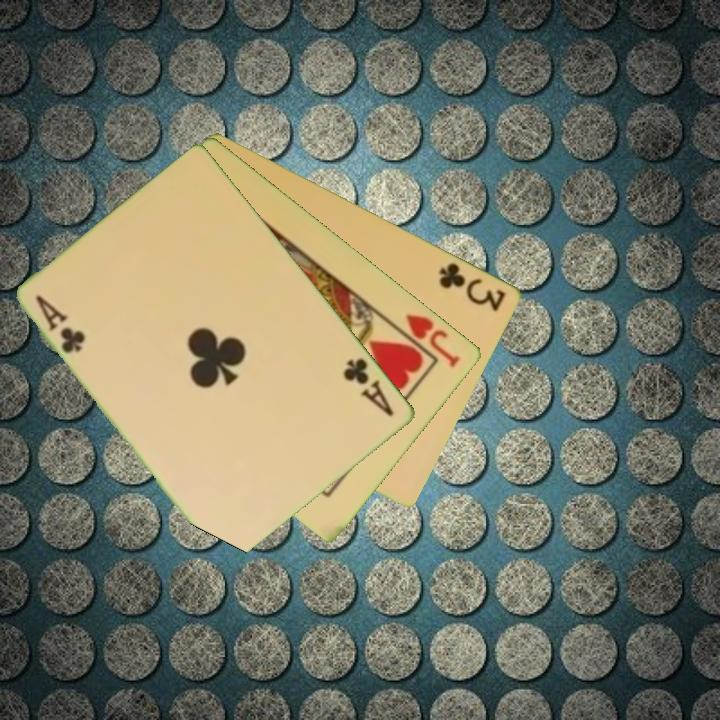3c: (436, 258, 509, 315)
Ac: (340, 354, 397, 420), (33, 291, 89, 357)
Jh: (389, 310, 464, 370)
